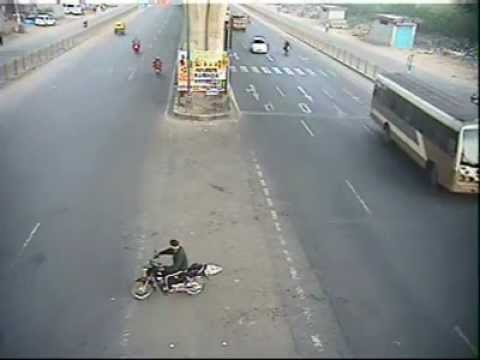Bike: (129, 261, 221, 307)
